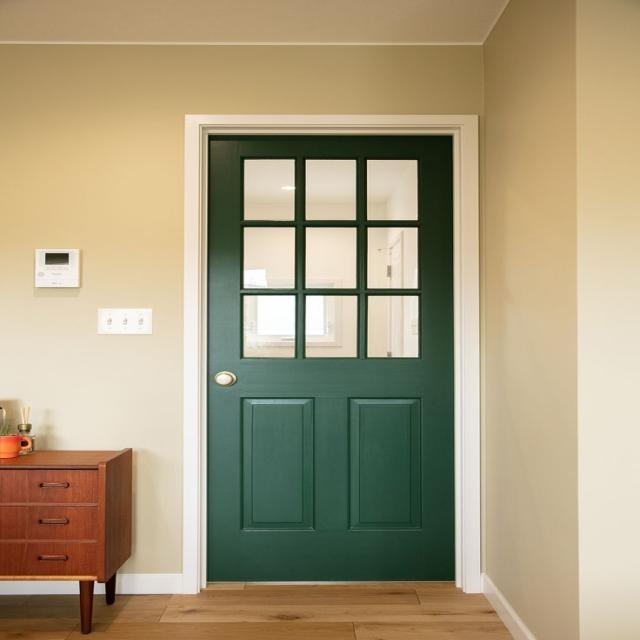door: (204, 130, 456, 582)
obstacle: (0, 447, 133, 634)
